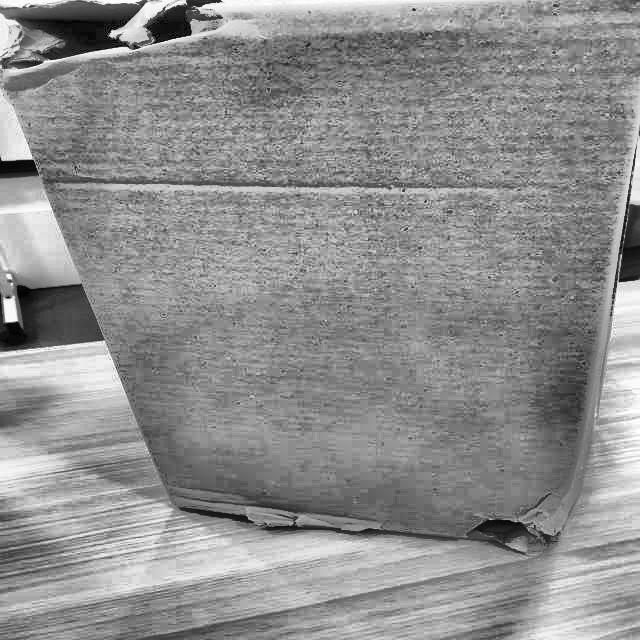box: (0, 0, 639, 562)
hole: (0, 1, 246, 81), (449, 489, 571, 551)
